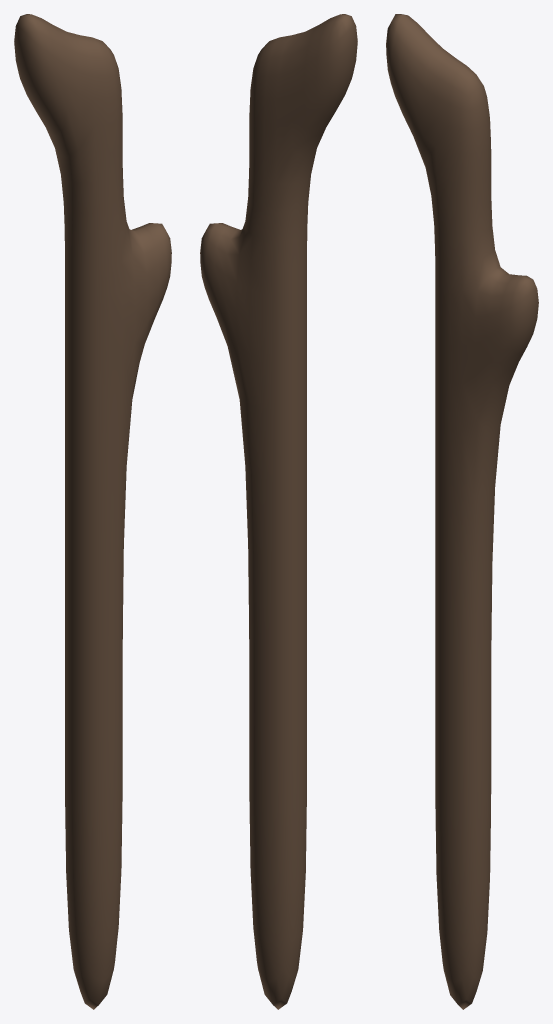
The model's file is Stick.glb.
3 views of the same model, side by side, from view 1: azimuth 30°, elevation 25°; view 2: azimuth 150°, elevation 25°; view 3: azimuth 330°, elevation 25° (orthographic). The views are drawn at different scales.
Parts seen in each view (by area): view 1: Stick; view 2: Stick; view 3: Stick.
Part boxes in pixels (<box>): Stick: <box>14,14,171,1009</box>; Stick: <box>200,14,357,1009</box>; Stick: <box>386,14,538,1009</box>.
Size of the model in its own units: 0.3055 by 1.96 by 0.1067.
